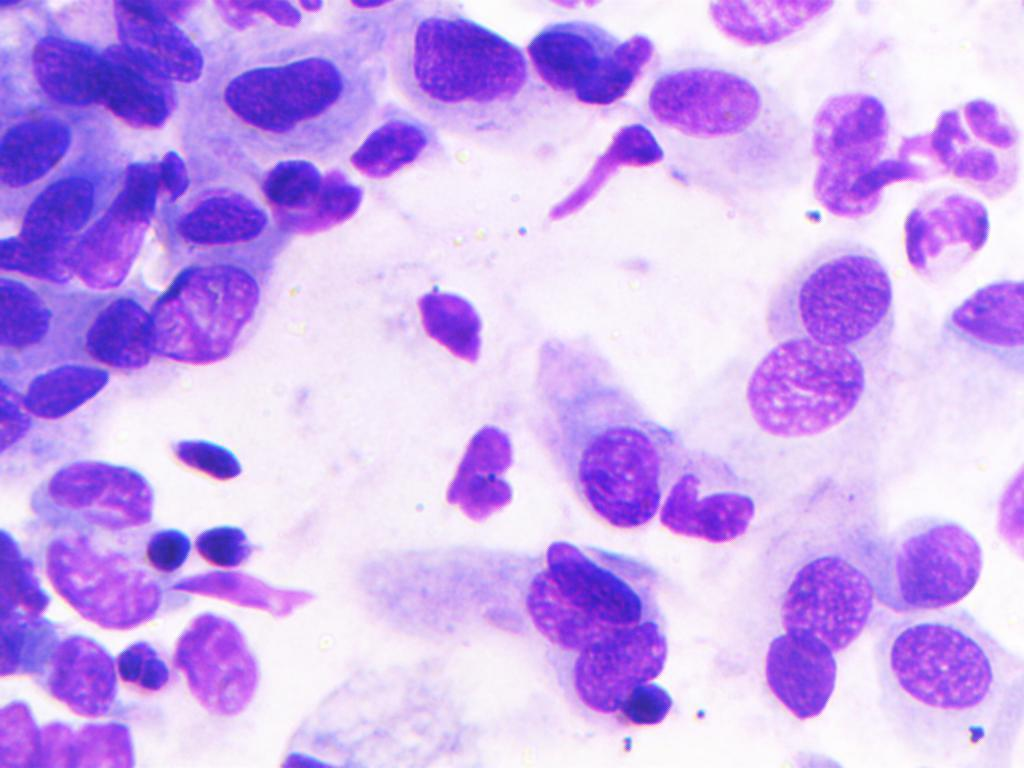artifact: (67, 147, 196, 293), (541, 118, 669, 234), (41, 536, 163, 631), (427, 421, 531, 528), (176, 609, 270, 725), (0, 701, 148, 768), (0, 514, 51, 692), (658, 454, 760, 542), (41, 629, 120, 719)
epithelial: (522, 335, 663, 527), (387, 12, 522, 156), (503, 536, 651, 655), (878, 615, 1019, 737), (735, 339, 891, 438), (867, 483, 982, 611), (764, 248, 896, 345), (144, 266, 261, 368), (757, 630, 872, 732), (574, 617, 689, 716), (764, 554, 877, 654), (889, 186, 995, 278), (26, 458, 155, 529), (651, 66, 767, 141), (937, 277, 1024, 362), (172, 181, 269, 255), (708, 0, 849, 48), (28, 362, 110, 416)
metaplastic: (523, 15, 654, 112), (213, 53, 349, 136), (69, 286, 166, 382), (92, 44, 191, 134), (16, 30, 110, 118), (113, 0, 208, 83), (0, 107, 84, 187), (17, 164, 101, 241), (0, 272, 60, 359)
neutrophil: (248, 143, 374, 244), (409, 270, 499, 382), (931, 88, 1024, 196), (347, 114, 444, 197), (812, 148, 911, 215), (811, 93, 890, 163), (169, 426, 254, 484), (196, 508, 267, 565), (114, 638, 172, 694)
